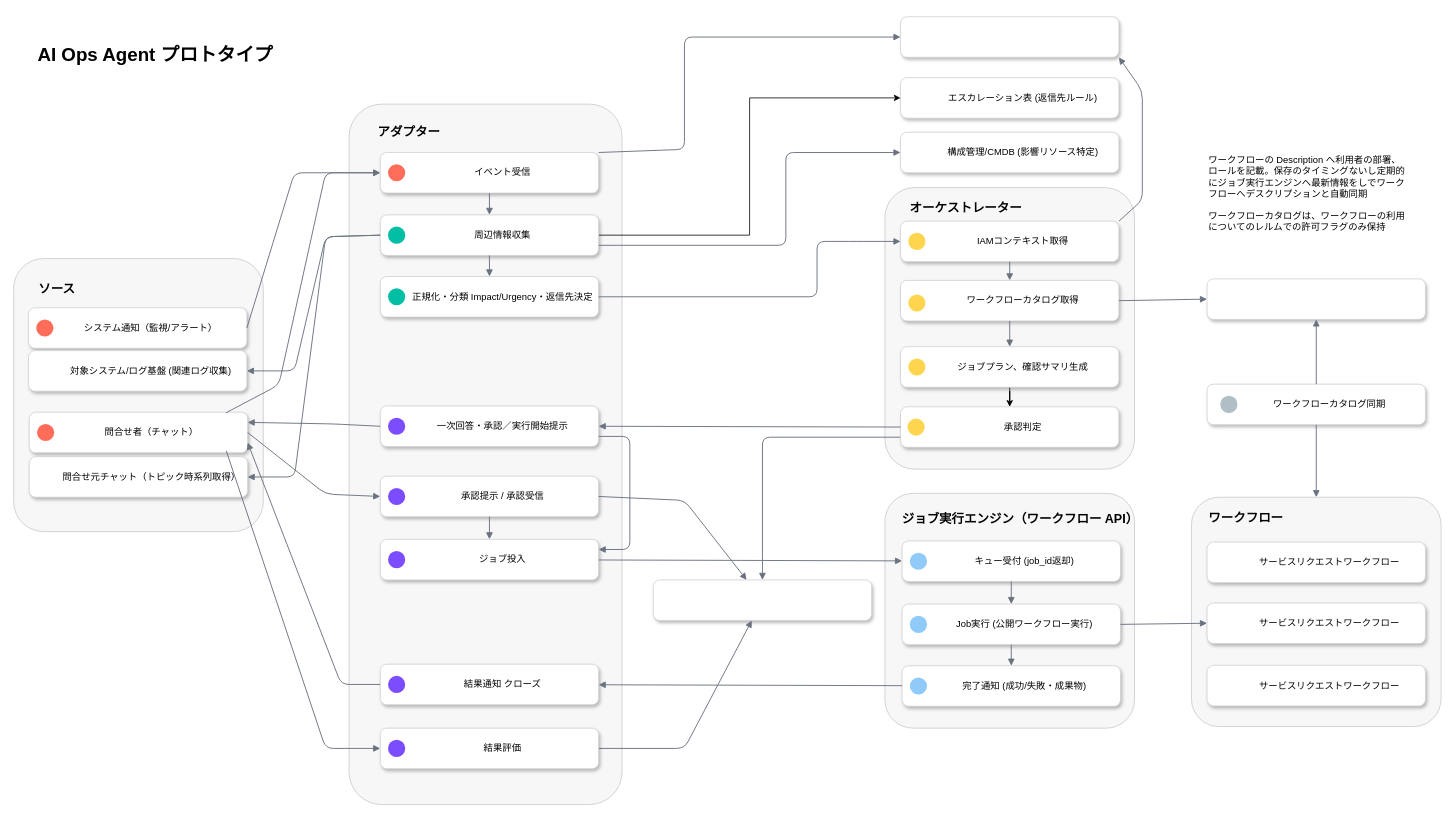
This 1455x818 diagram has some shape labels left out. The shapes that lost their labels are listed below. From the top down, each one's centre as x and y in pixels, then its label:
(x=1010, y=38): IdP 認証、IAM (realm/group/role)
(x=1316, y=300): ワークフローカタログ
(x=762, y=601): 承認履歴/評価ストア (近い過去の承認状態・評価用)
